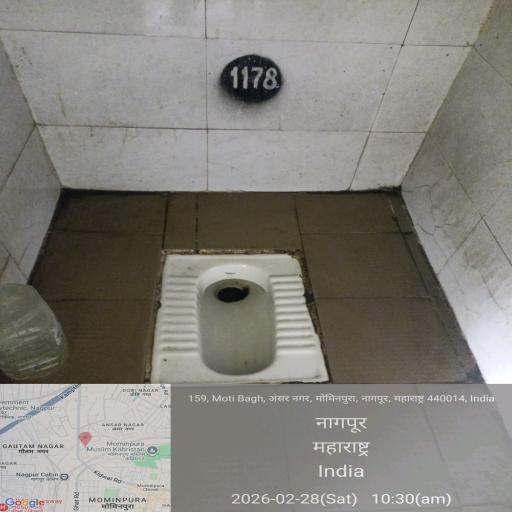clean_floor: (10, 339, 512, 512)
clean_indian: (135, 225, 375, 435)
partial_dirty_floor: (18, 18, 470, 223)
